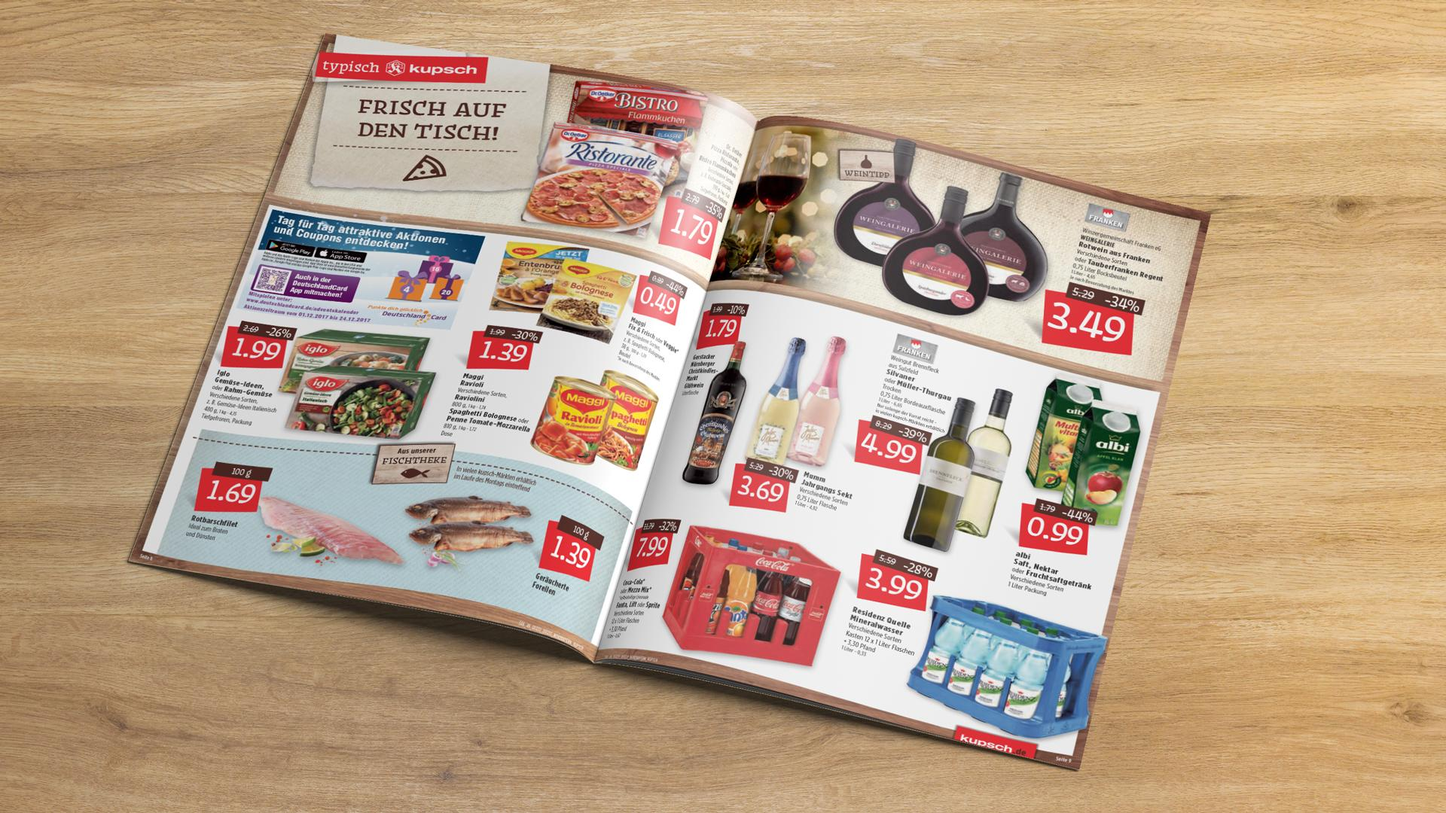paper: (139, 34, 1212, 768)
